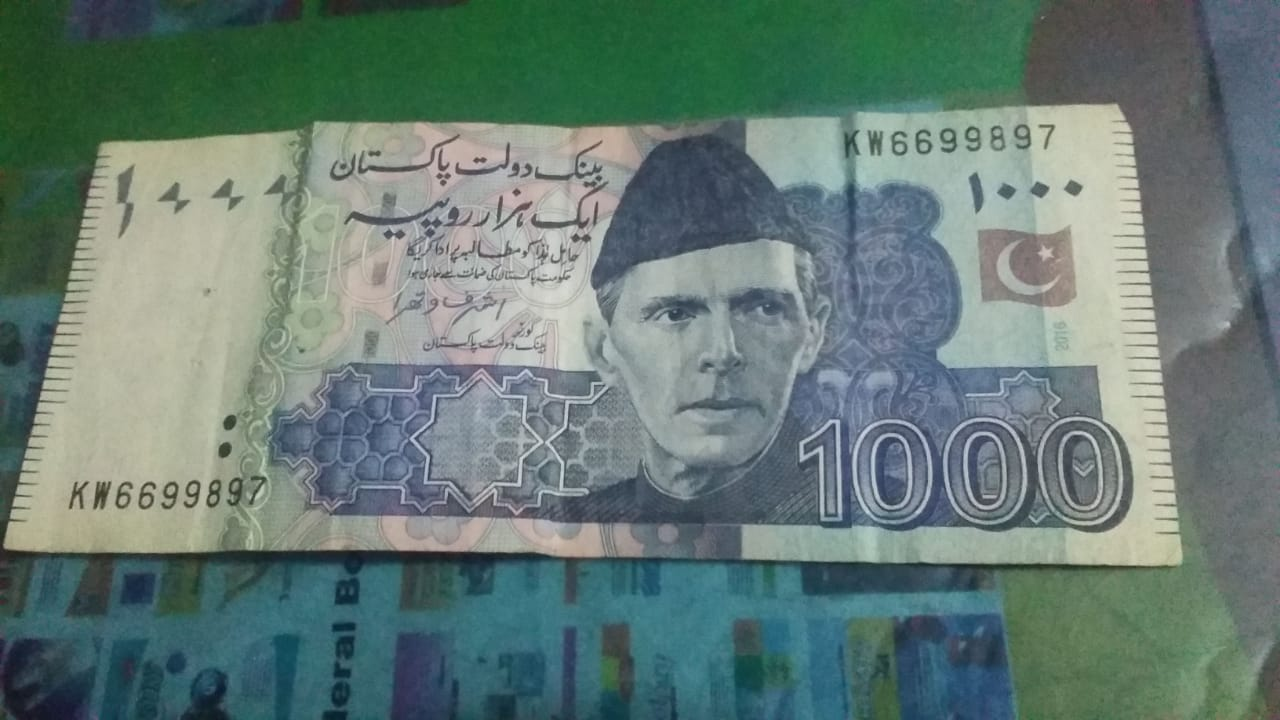1000 rupee: (9, 94, 1197, 643)
